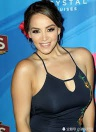female: (26, 10, 64, 60)
